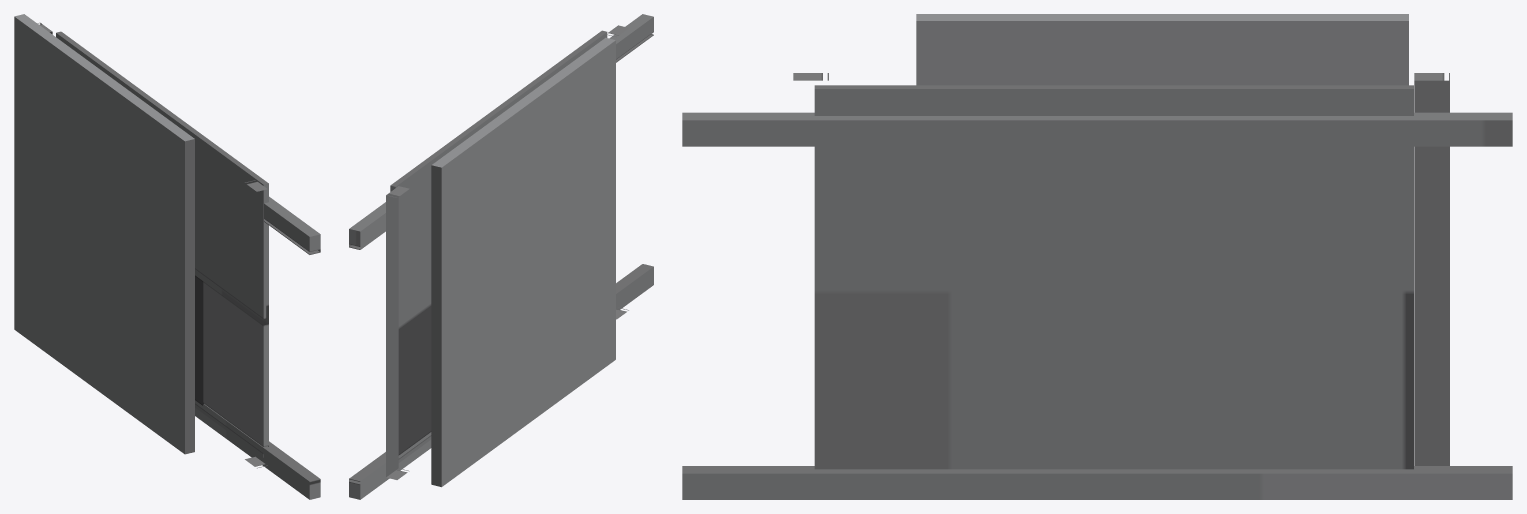
3 views of the same model, side by side, from view 1: azimuth 30°, elevation 25°; view 2: azimuth 150°, elevation 25°; view 3: azimuth 270°, elevation 25° (orthographic). The views are drawn at different scales.
Bounding box in the file's own units: 0.1475 × 0.8051 × 1.34.
